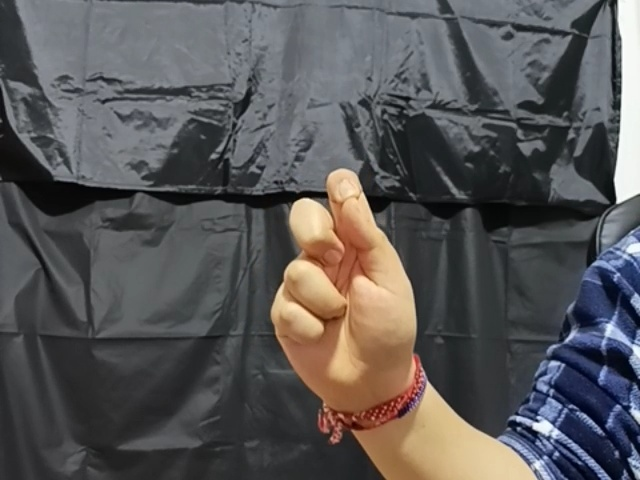T: (266, 165, 427, 400)
